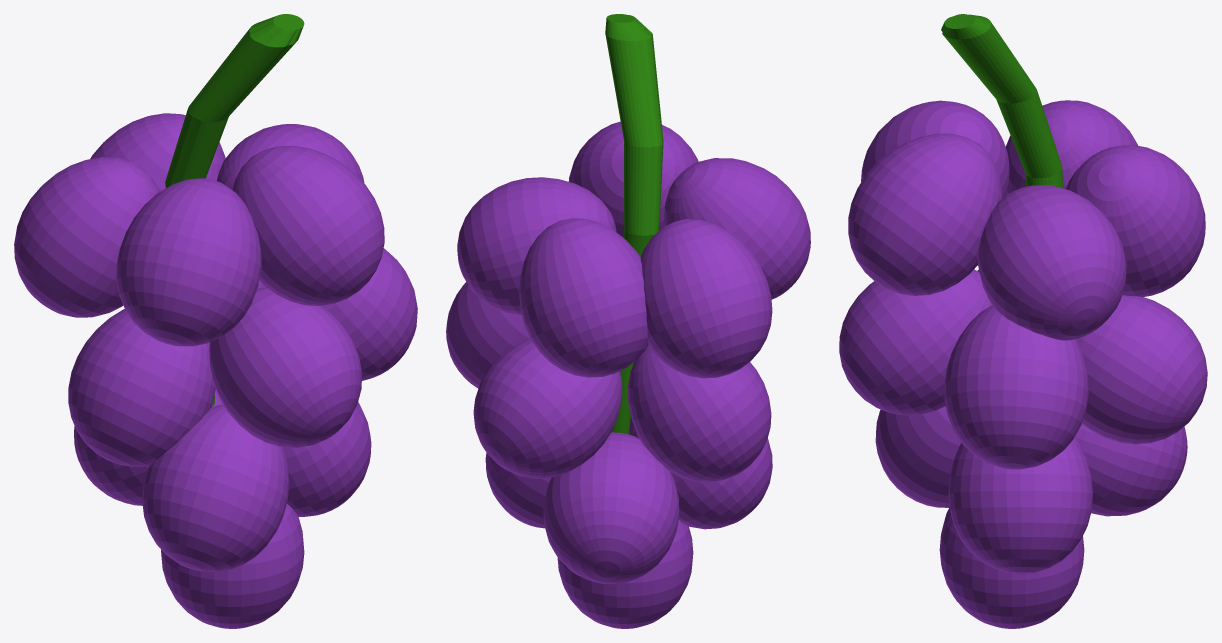
Rendered from nho.glb.
3 renders of one model, left to right at view 1: azimuth 30°, elevation 25°; view 2: azimuth 150°, elevation 25°; view 3: azimuth 270°, elevation 25°, orthographic. The views are drawn at different scales.
Visible parts, largest first — view 1: Sphere.011, Sphere.008, Sphere.007, Sphere.001, Sphere.005, Sphere.009, Sphere, Cylinder, Sphere.004, Sphere.002, Sphere.012, Sphere.010 (+1 smaller); view 2: Sphere.009, Sphere.012, Sphere.003, Sphere.006, Sphere.005, Sphere.011, Sphere.010, Cylinder, Sphere, Sphere.008, Sphere.004, Sphere.001 (+1 smaller); view 3: Sphere.008, Sphere.010, Sphere.004, Sphere.006, Sphere.002, Sphere.007, Sphere.012, Sphere, Cylinder, Sphere.003, Sphere.001, Sphere.011 (+1 smaller).
Boxes of the visible parts, x1,y1,x2,y2 form: Sphere.011: (116, 178, 261, 346); Sphere.008: (232, 145, 384, 305); Sphere.007: (209, 288, 361, 447); Sphere.001: (142, 404, 289, 571); Sphere.005: (68, 309, 215, 466); Sphere.009: (14, 157, 159, 317); Sphere: (161, 504, 304, 628); Cylinder: (165, 14, 304, 406); Sphere.004: (266, 248, 417, 380); Sphere.002: (283, 402, 371, 516); Sphere.012: (90, 113, 225, 191); Sphere.010: (217, 124, 364, 189); Sphere.009: (640, 219, 772, 378); Sphere.012: (519, 218, 648, 377); Sphere.003: (543, 432, 679, 584); Sphere.006: (473, 338, 622, 478); Sphere.005: (628, 345, 771, 482); Sphere.011: (664, 158, 810, 299); Sphere.010: (457, 177, 616, 314); Cylinder: (605, 14, 663, 434); Sphere: (557, 520, 693, 628); Sphere.008: (568, 121, 698, 237); Sphere.004: (446, 282, 530, 388); Sphere.001: (629, 417, 772, 529); Sphere.008: (848, 133, 1002, 295); Sphere.010: (978, 185, 1126, 340); Sphere.004: (944, 305, 1088, 469); Sphere.006: (1076, 295, 1207, 444); Sphere.002: (948, 437, 1092, 573); Sphere.007: (839, 269, 991, 415); Sphere.012: (1066, 145, 1205, 297); Sphere: (939, 507, 1084, 628); Cylinder: (941, 14, 1062, 188); Sphere.003: (1075, 424, 1187, 516); Sphere.001: (875, 406, 961, 507); Sphere.011: (861, 100, 1009, 198).
Bounding box in the file's own units: 1.62 × 2.67 × 1.45.
